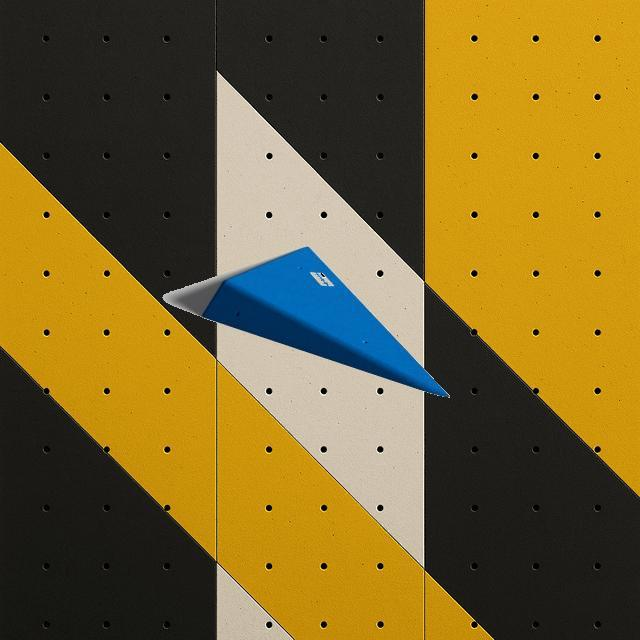Volume: (200, 245, 450, 398)
